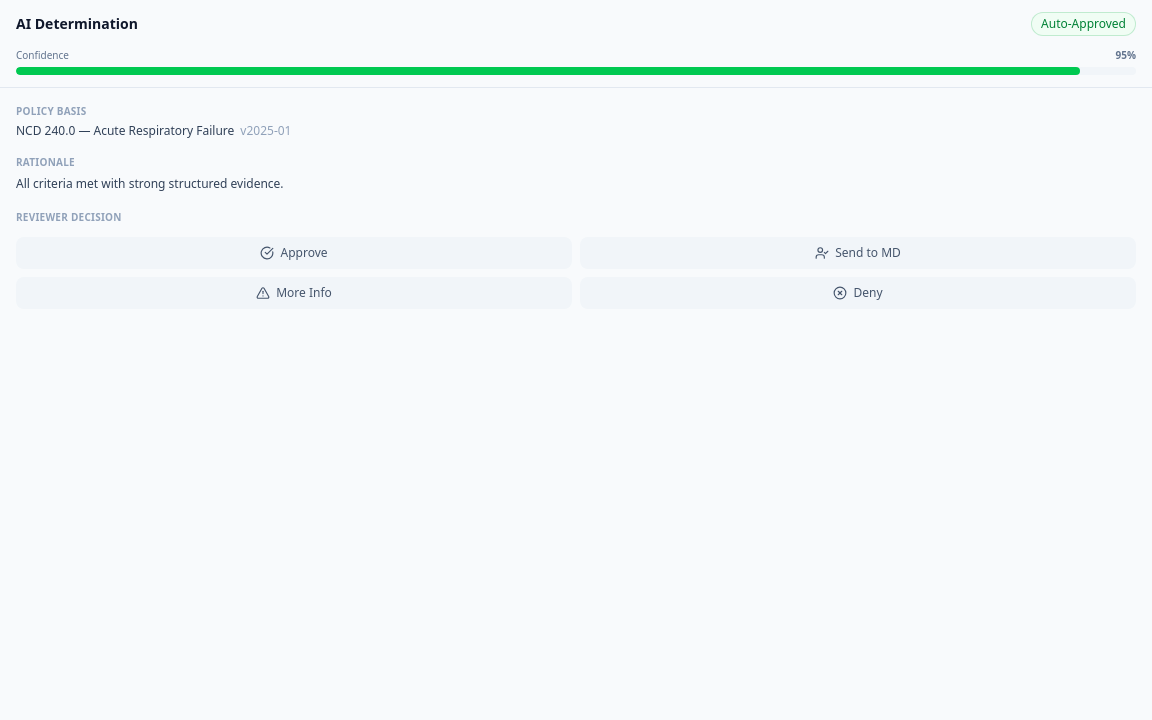
DeterminationPanel › shows override reason textarea when determination differs from agent proposal
# Clicking "Deny" is an override (differs from AUTO_APPROVE)
Click the button "Deny".
click(858, 292)  # box 580,276 -> 1136,308
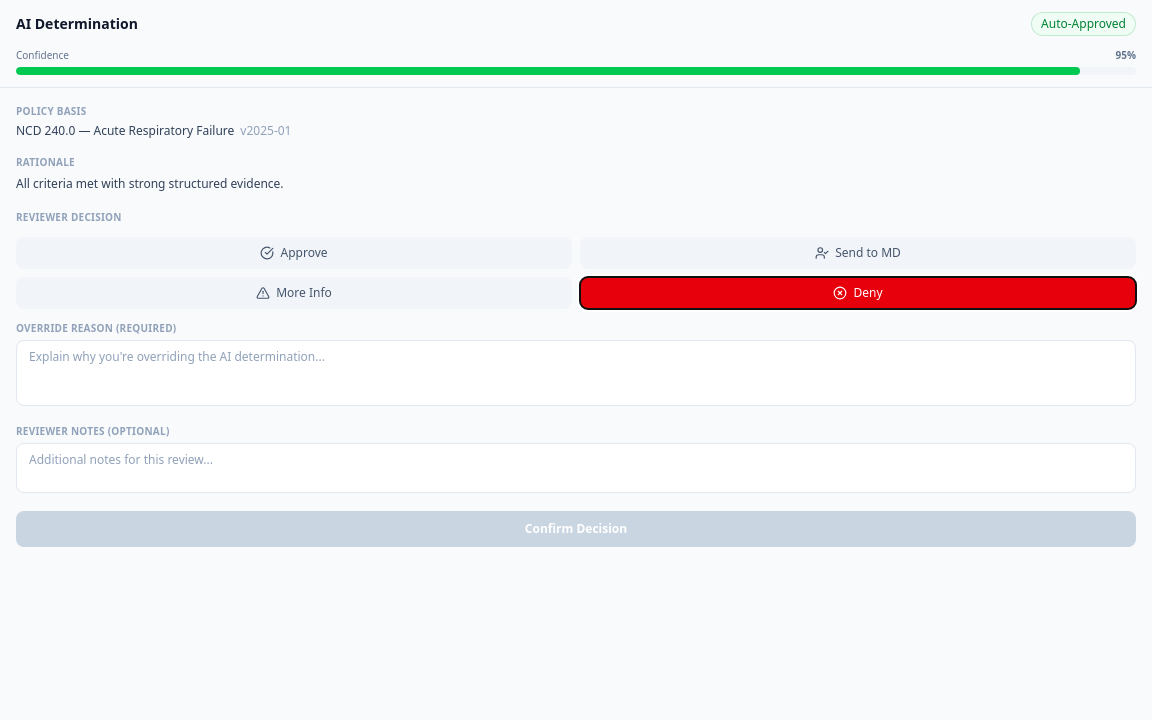
Check: the text "Override Reason (required)" is shown, box 16,320 -> 176,334
Check: the text box with placeholder "Explain why you're overriding the AI determination..." is shown, box 16,340 -> 1136,406
